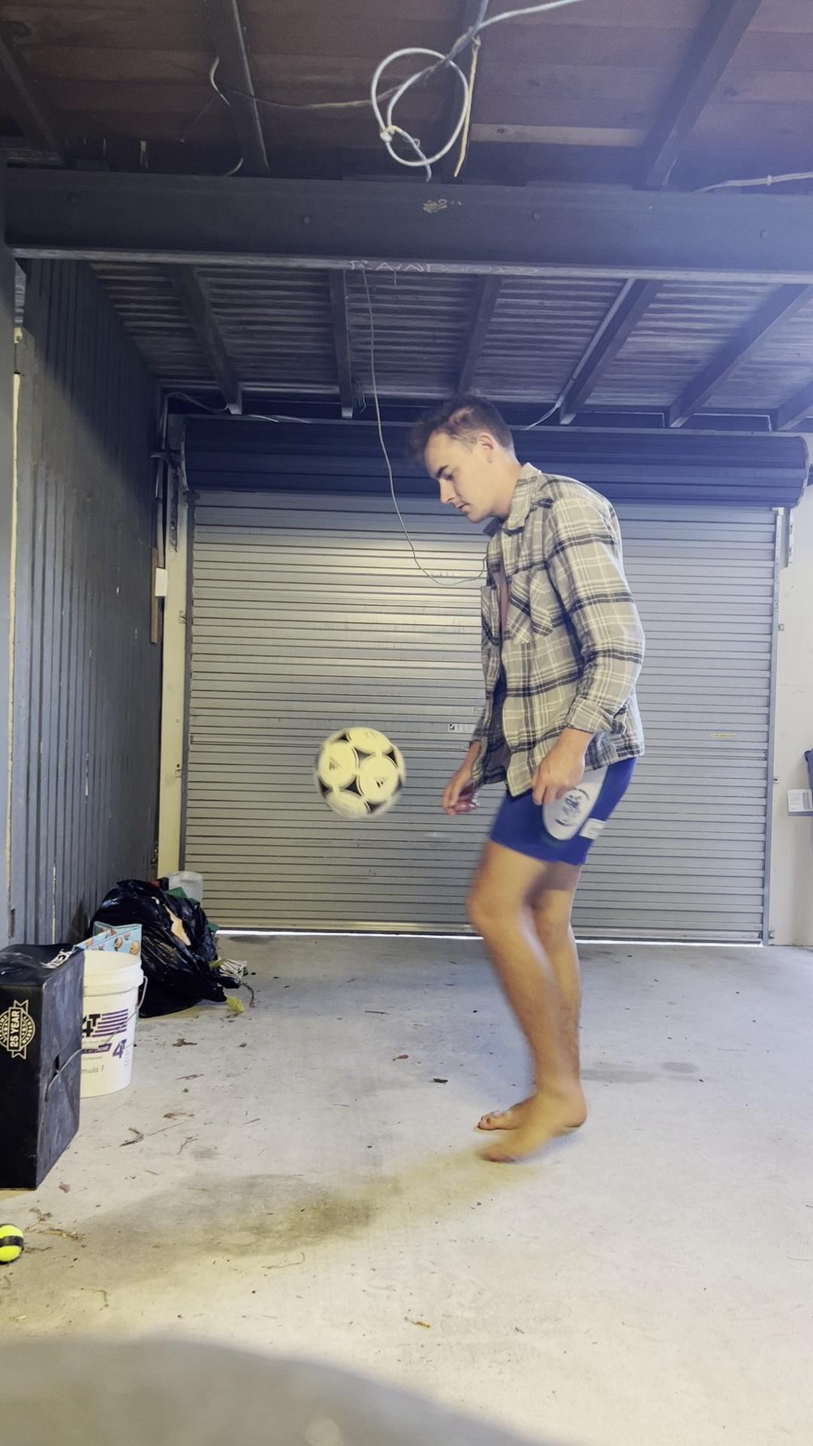ball: (316, 723, 408, 821)
foot: (481, 1080, 589, 1163)
person: (411, 393, 645, 1169)
